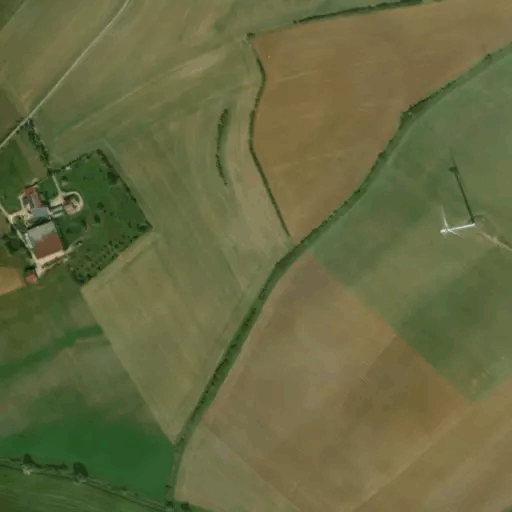wt: (433, 130, 484, 256)
